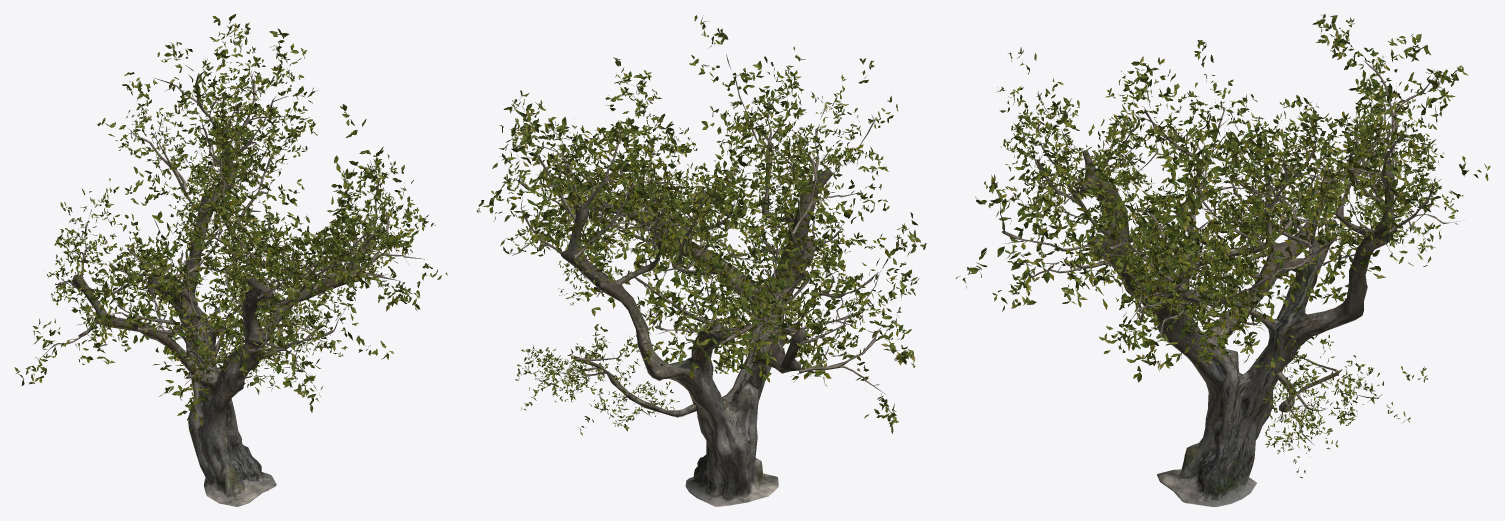
Rendered from island_tree_01.glb.
3 renders of one model, left to right at view 1: azimuth 30°, elevation 25°; view 2: azimuth 150°, elevation 25°; view 3: azimuth 270°, elevation 25°, orthographic. The views are drawn at different scales.
Parts seen in each view (by area): view 1: island_tree_01_LOD0; view 2: island_tree_01_LOD0; view 3: island_tree_01_LOD0.
Boxes of the visible parts, x1,y1,x2,y2 form: island_tree_01_LOD0: (14, 14, 447, 506); island_tree_01_LOD0: (476, 15, 926, 506); island_tree_01_LOD0: (956, 14, 1490, 506).
Size of the model in its own units: 4.71 by 4.99 by 4.81.
Materials: 3 (3 with a texture image).
